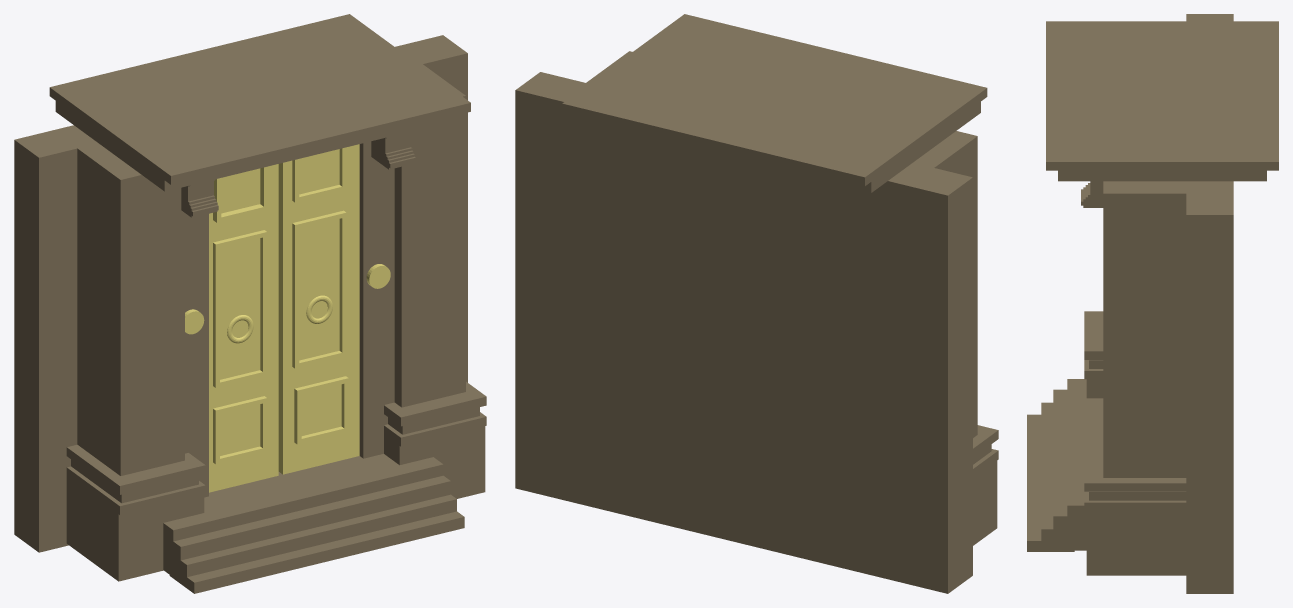
The model's file is puerta-draco.glb.
The picture shows the model from 3 angles, left to right: view 1: azimuth 30°, elevation 25°; view 2: azimuth 150°, elevation 25°; view 3: azimuth 270°, elevation 25°; orthographic projection. The views are drawn at different scales.
Parts seen in each view (by area): view 1: Cubo.015, Toroide.001; view 2: Cubo.015; view 3: Cubo.015.
Boxes of the visible parts, x1,y1,x2,y2 form: Cubo.015: (14, 14, 486, 593); Toroide.001: (185, 144, 390, 492); Cubo.015: (515, 14, 998, 593); Cubo.015: (1027, 14, 1278, 593).
Size of the model in its own units: 2 by 1.85 by 1.06.
Materials: 2 (1 with a texture image).
